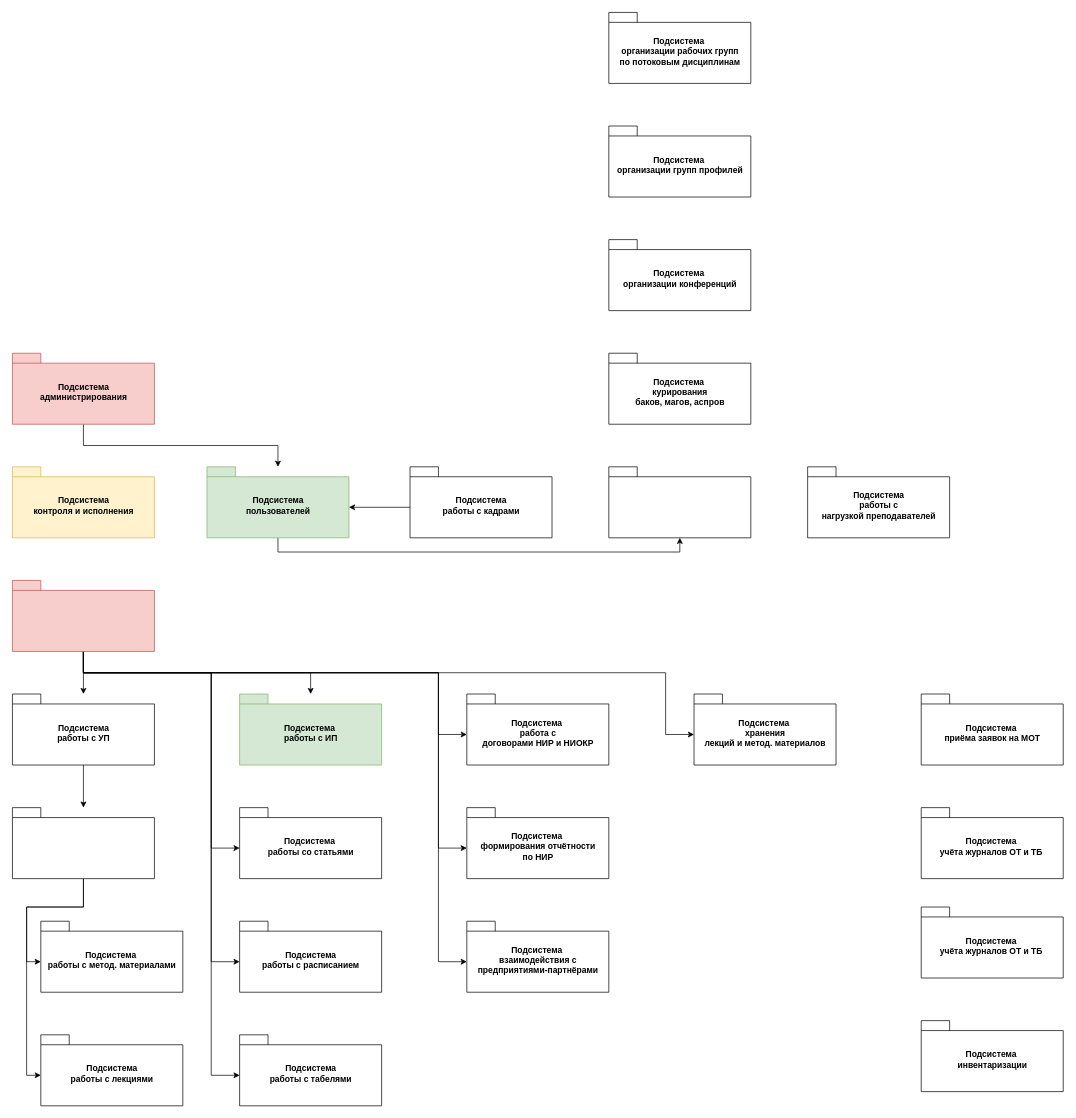
Image size: 1076x1118. Some labels were removed from this diagram. Here are the shapes that lost their labels. From the top down, the centre of each, then its label:
At point 679,502: "Подсистема рассылки электронных писем".
At point 83,615: "Подсистема хранения материалов кафедры".
At point 83,843: "Подсистема работы с РПД".
